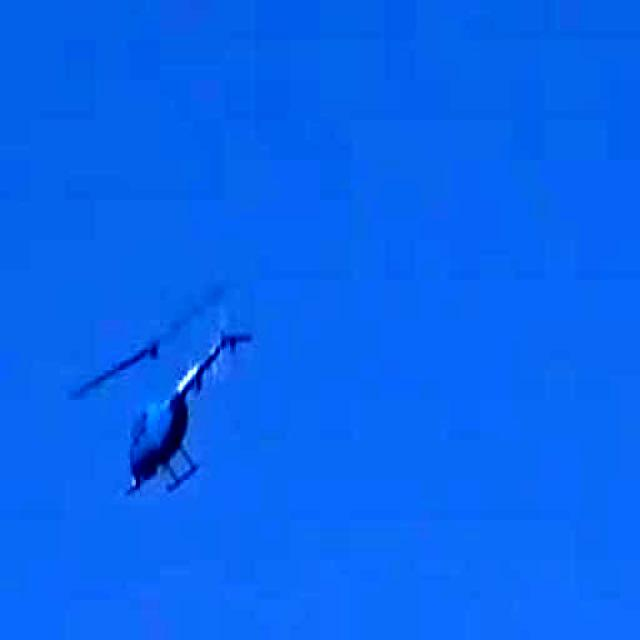drone: (31, 294, 291, 528)
